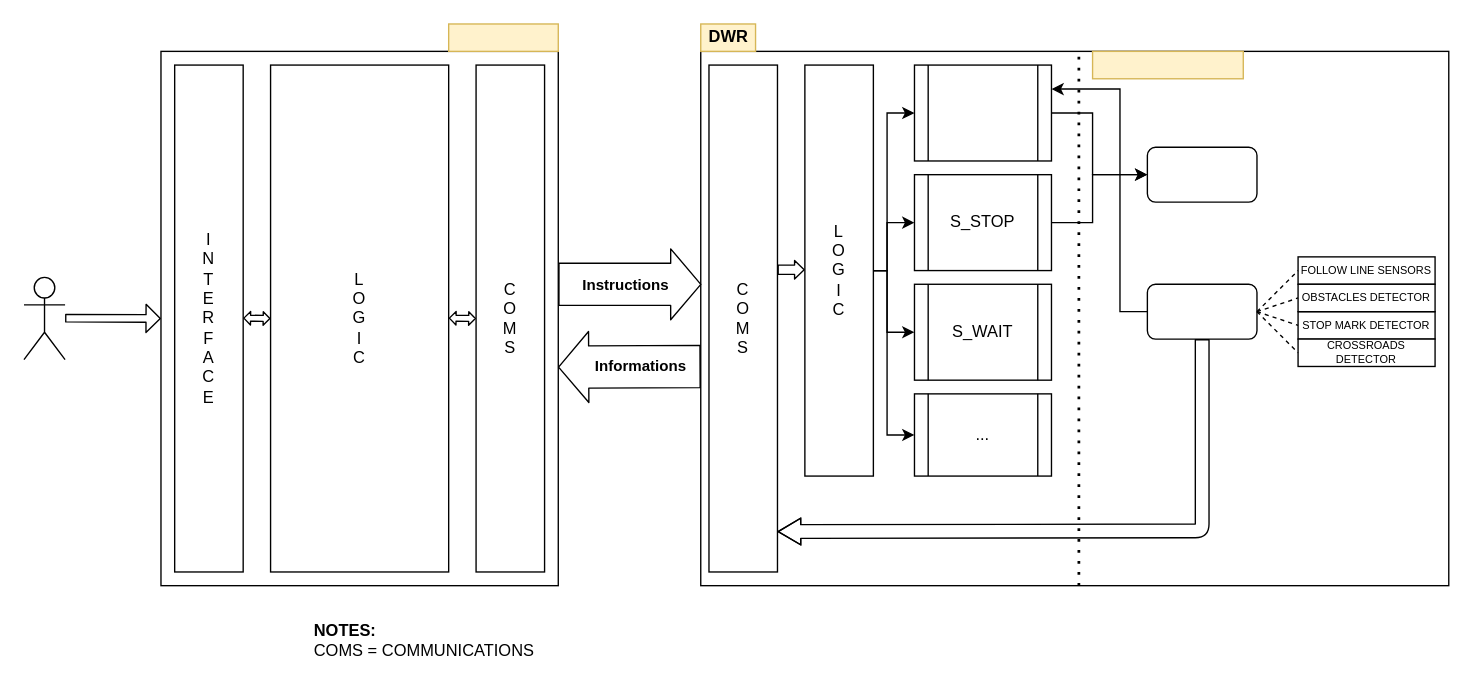
This 1473x685 diagram has some shape labels left out. The shapes that lost their labels are listed below. From the top down, each one's centre as x and y in pixels, then its label:
At point (502, 37): "Control Unit".
At point (1167, 64): "HW INTERACTION".
At point (982, 112): "S_FLW_LINE".
At point (1201, 174): "MOTORS".
At point (44, 318): "User".
At point (1201, 311): "SENSORS".
